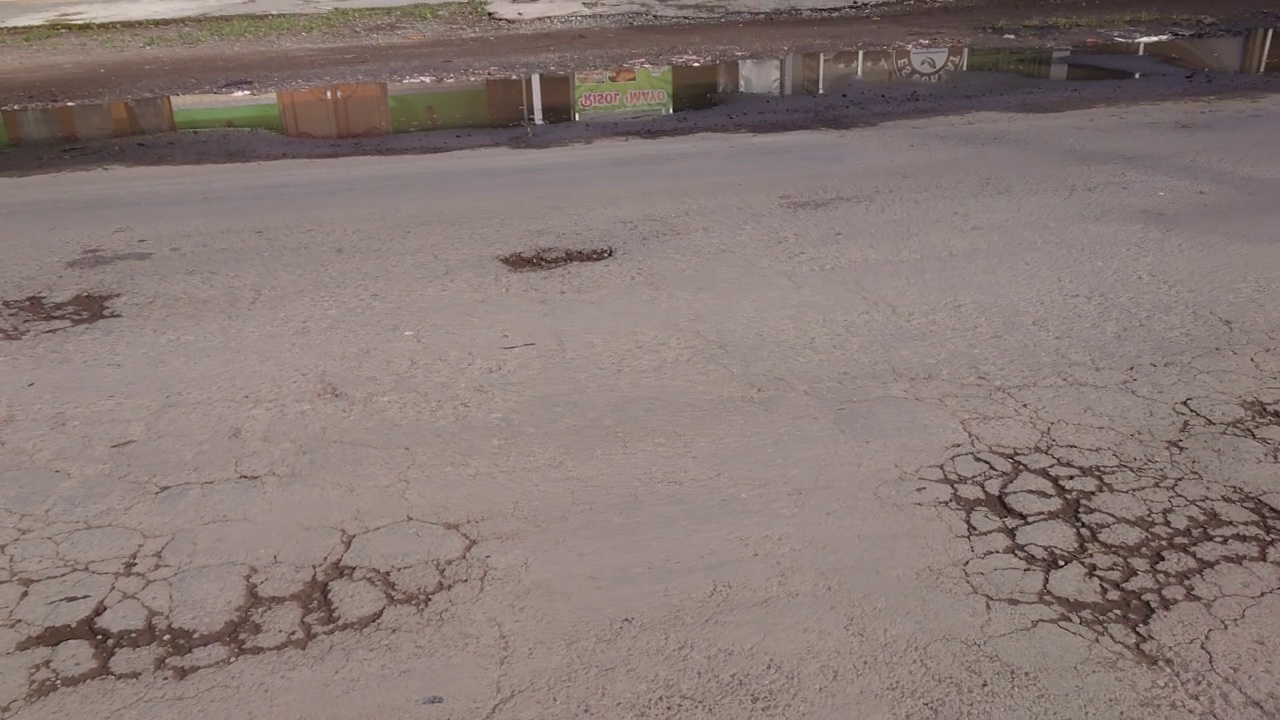Retak: (926, 407, 1280, 710), (1, 516, 503, 718), (1, 295, 153, 353), (496, 235, 606, 285)
